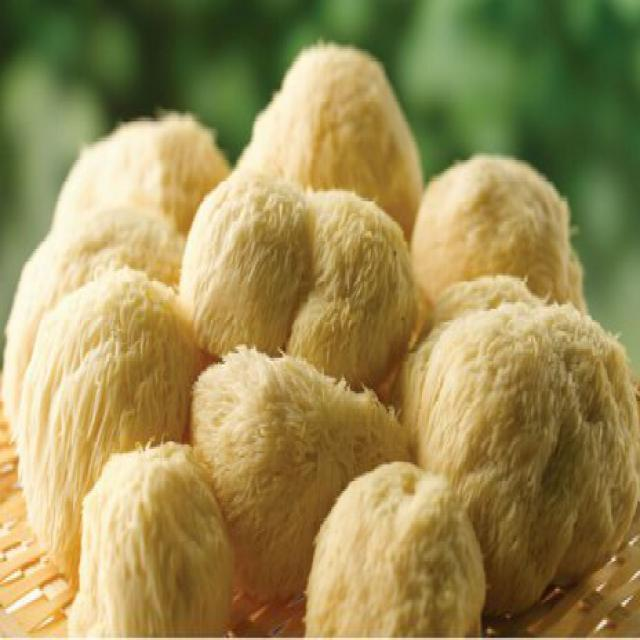Hericium erinaceus: (411, 274, 639, 613), (20, 267, 204, 581), (192, 347, 408, 591), (183, 171, 410, 384), (5, 213, 193, 448), (242, 45, 425, 241), (307, 461, 483, 640), (70, 449, 234, 635), (412, 154, 587, 311)
